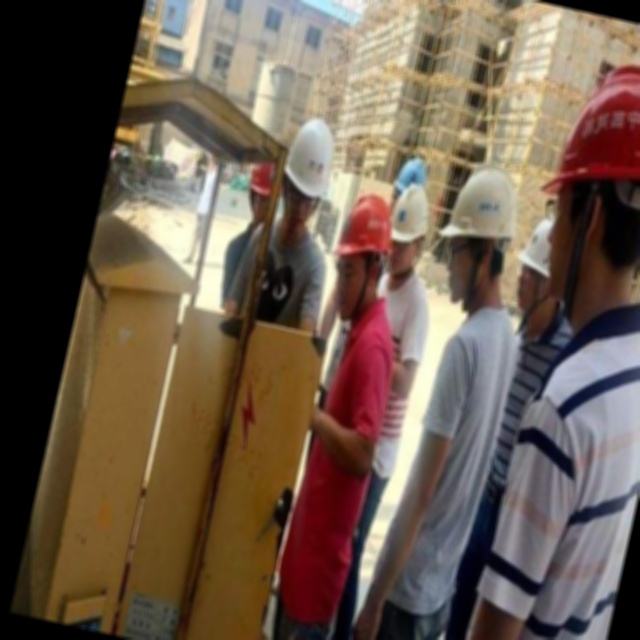Con_Casco: (424, 156, 524, 311), (274, 114, 347, 228)
Sin_Chaleco: (369, 294, 530, 618), (267, 304, 408, 622)
